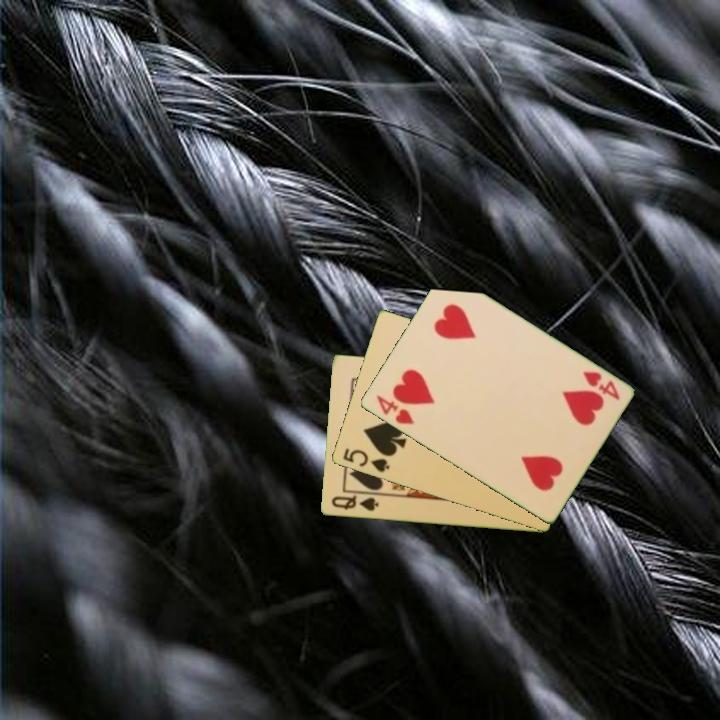4h: (372, 392, 417, 428), (579, 368, 622, 403)
5s: (339, 445, 392, 475)
Qs: (328, 492, 381, 514)
